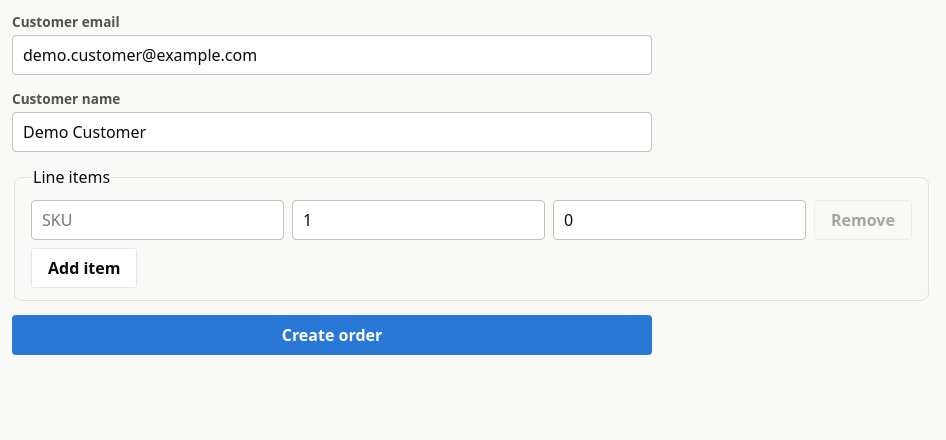
CreateOrderForm › surfaces the backend's error message when creation fails
Type "SKU-1" into the field with placeholder "SKU" at (158, 220), box [31,200,284,240]
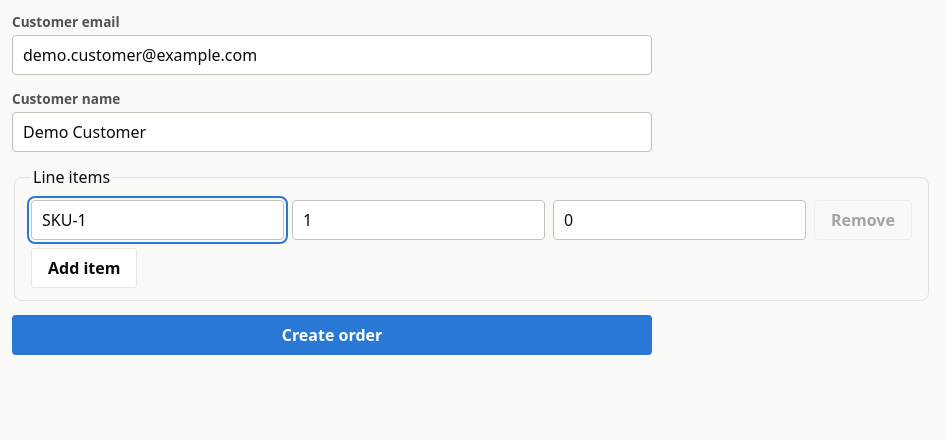
Click the button "Create order" at (332, 335), box [12,315,652,355]
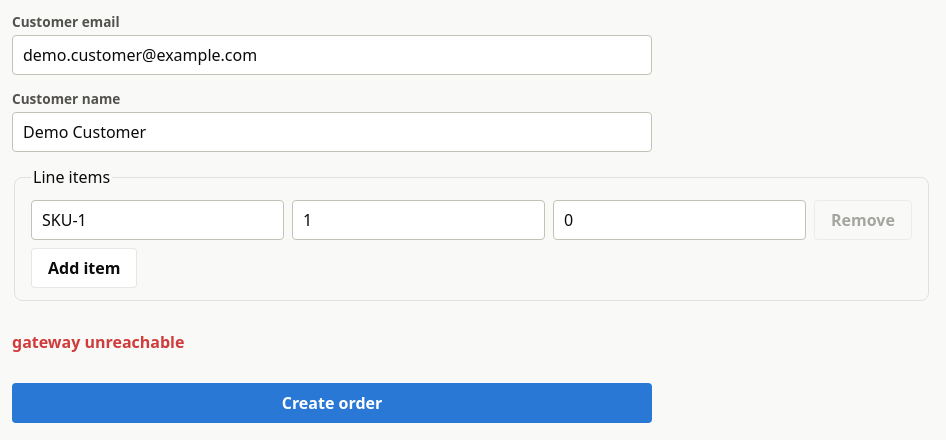
Expected: the message reads "gateway unreachable", [12,331,184,353]
